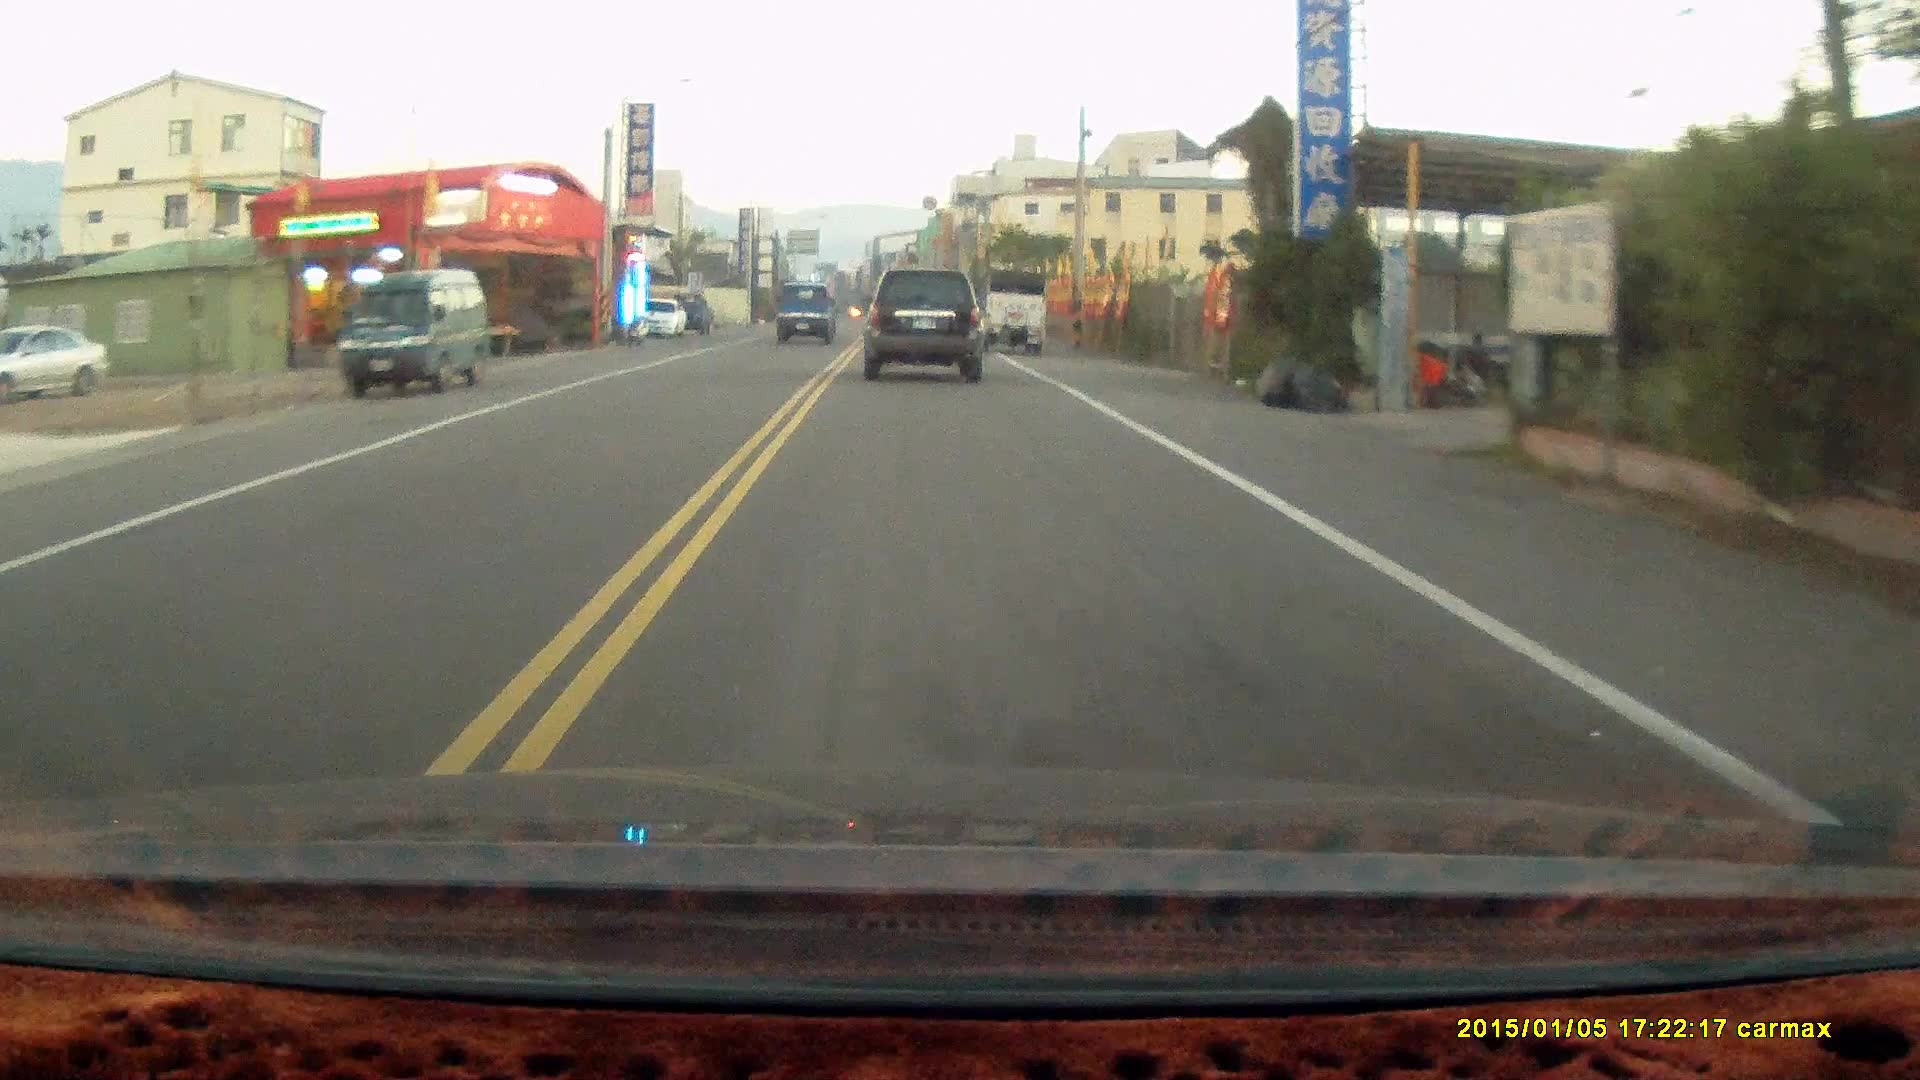vehicle: (336, 265, 495, 400), (866, 266, 986, 382), (0, 324, 109, 402), (963, 272, 1051, 359), (775, 284, 839, 348)
